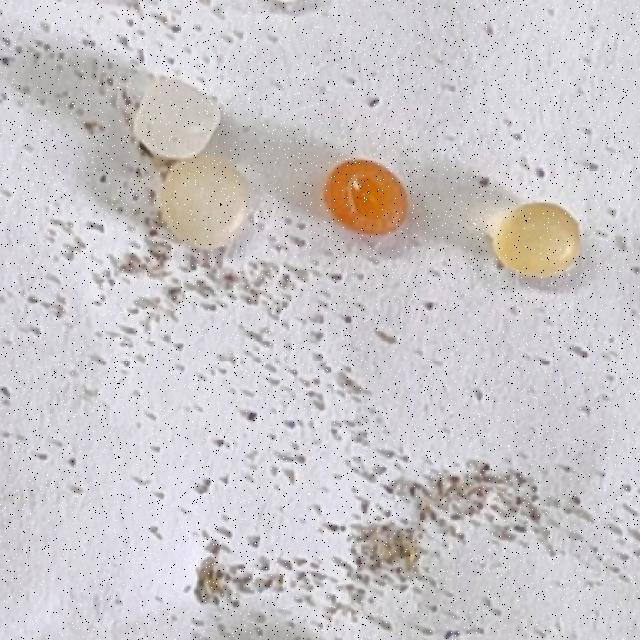beads: (121, 67, 230, 176), (313, 145, 421, 251), (159, 153, 250, 252), (491, 197, 587, 283)
